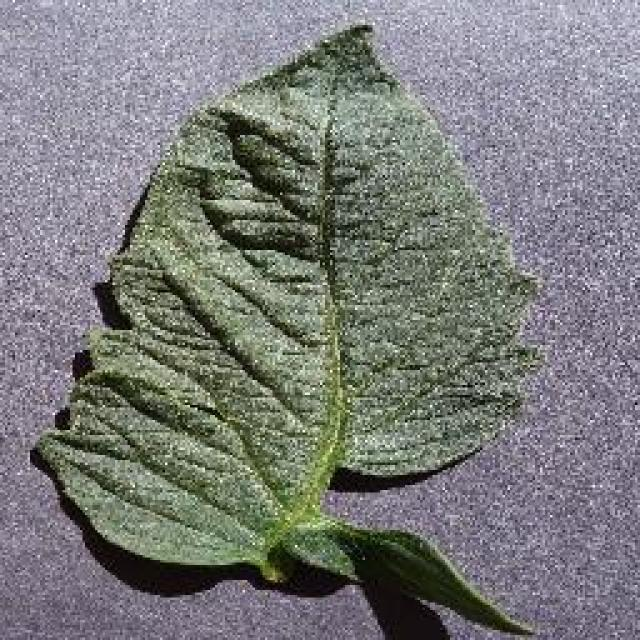healthy: (31, 20, 568, 636)
